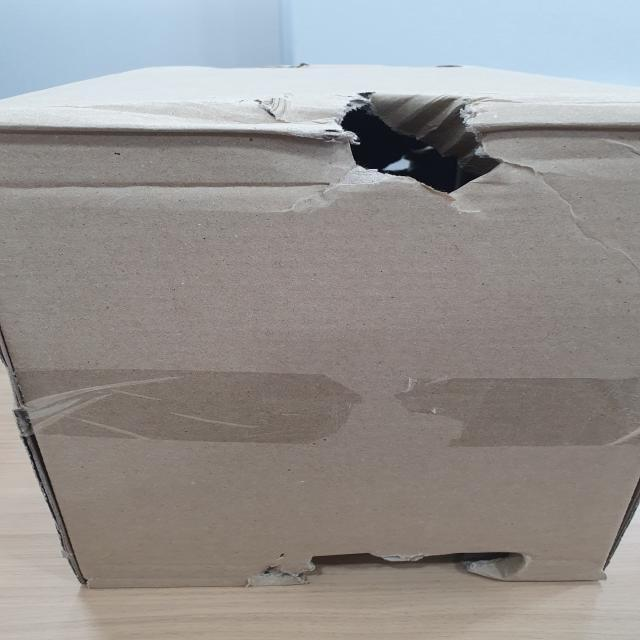hole: (304, 87, 543, 205), (264, 538, 555, 584)
